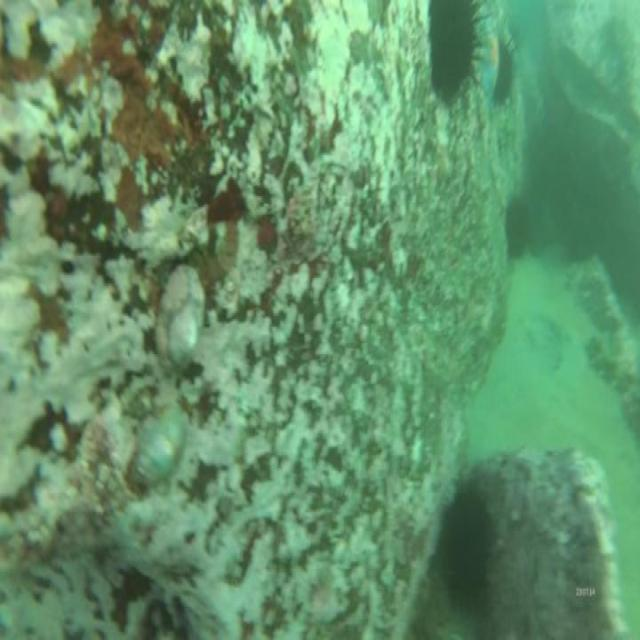echinus: (440, 479, 494, 613), (428, 2, 482, 108), (505, 190, 531, 260), (497, 36, 517, 112)
starfish: (481, 33, 499, 93)
